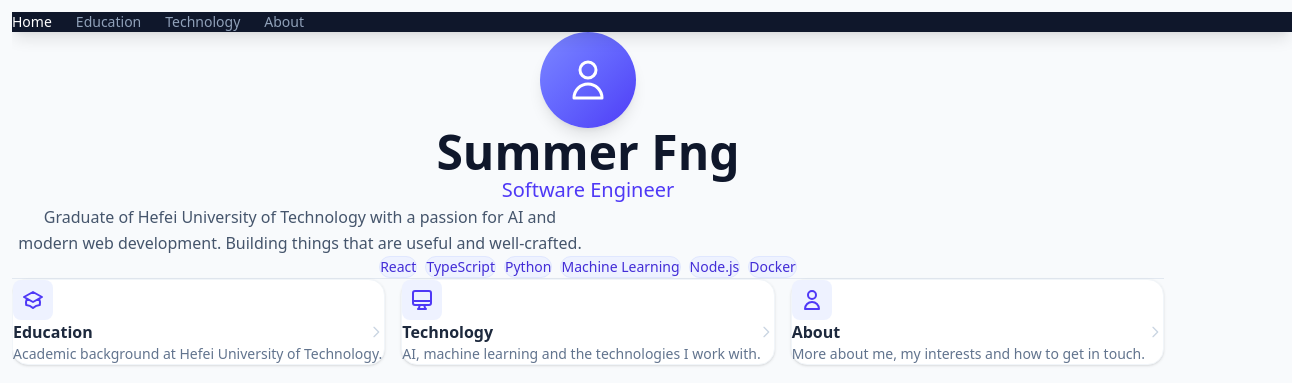
Test case: Navigation › navigates to Technology page
Click the link "Technology". click: {"x": 203, "y": 22}
box: [165, 12, 240, 31]
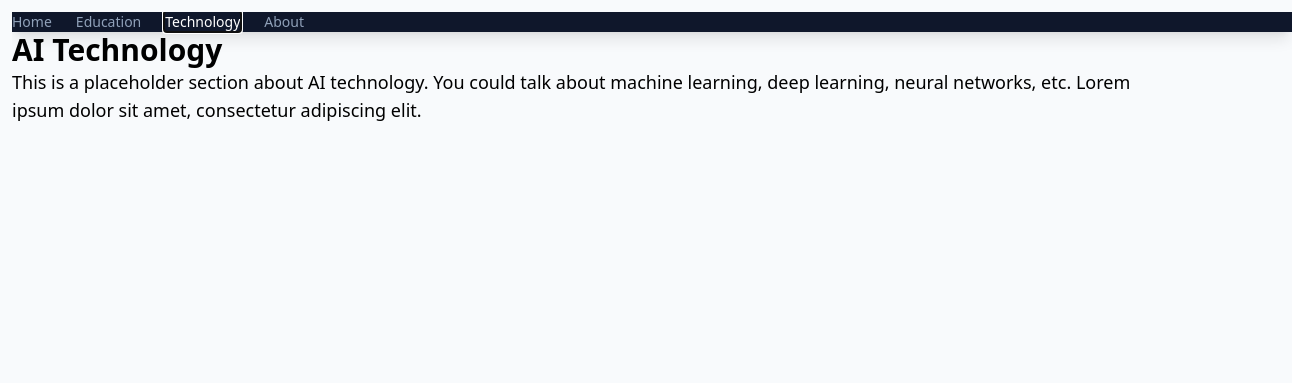
Result: the heading "AI Technology" is shown at [12, 29, 222, 70]
